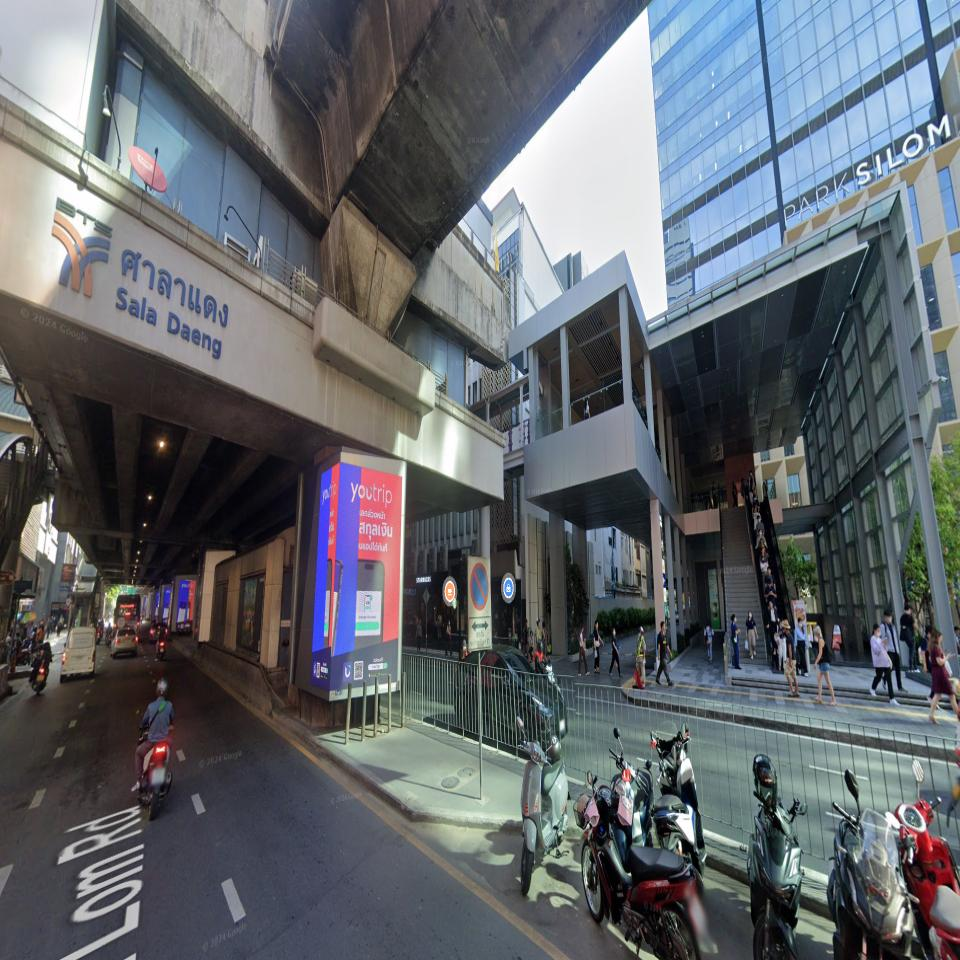Sala Daeng: (51, 196, 230, 362), (115, 246, 229, 362)
